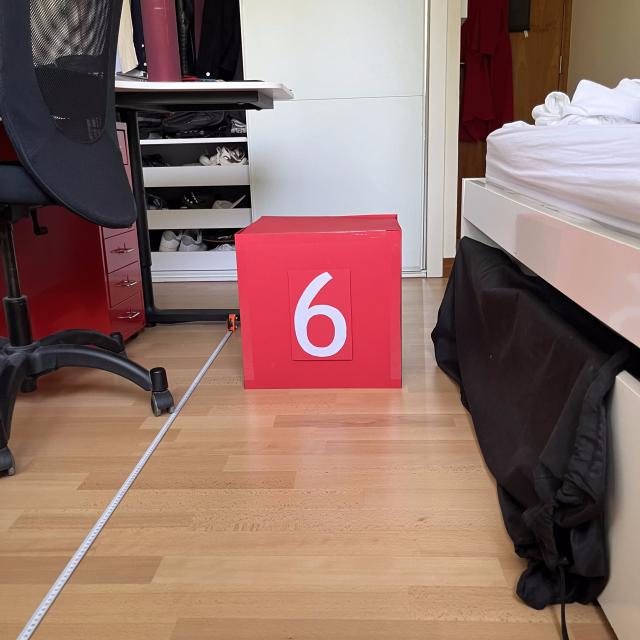box: (230, 210, 406, 392)
